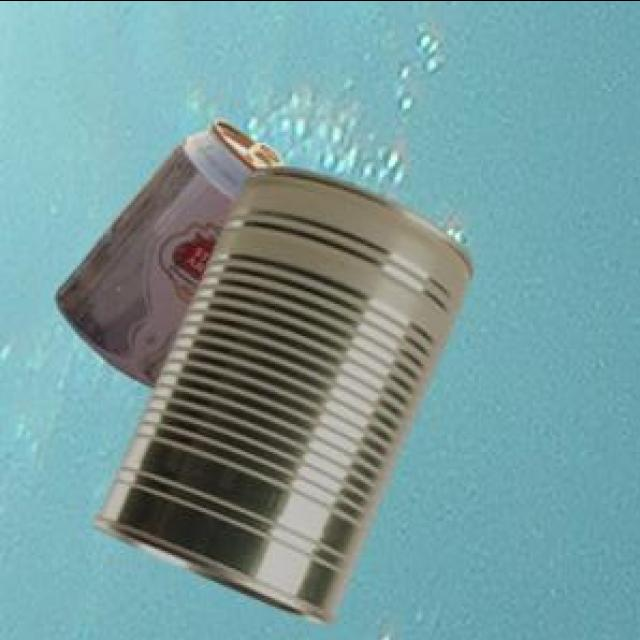logam: (89, 171, 469, 626), (53, 121, 282, 390)
